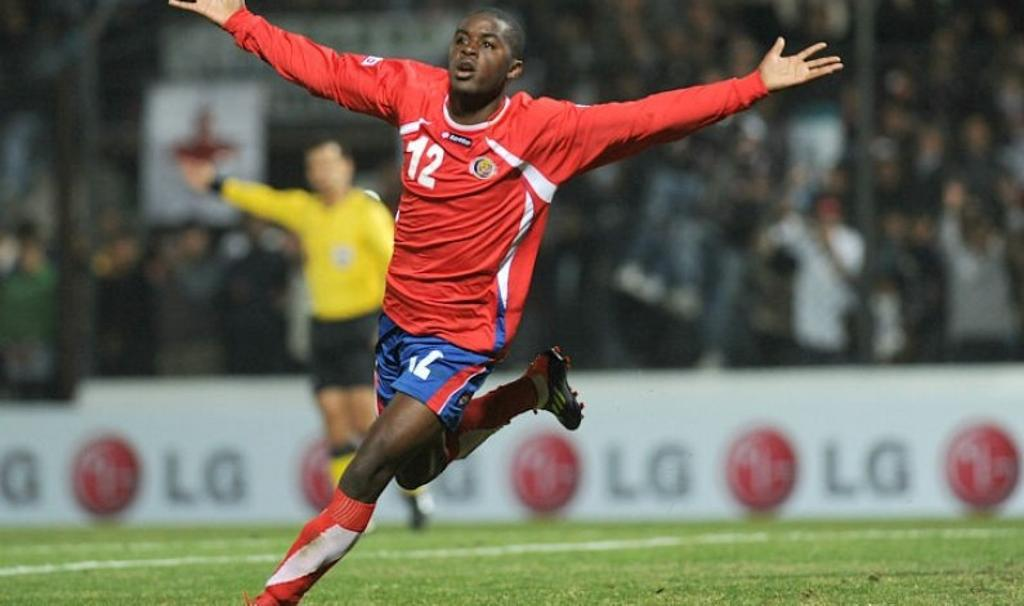face: (445, 17, 507, 97)
